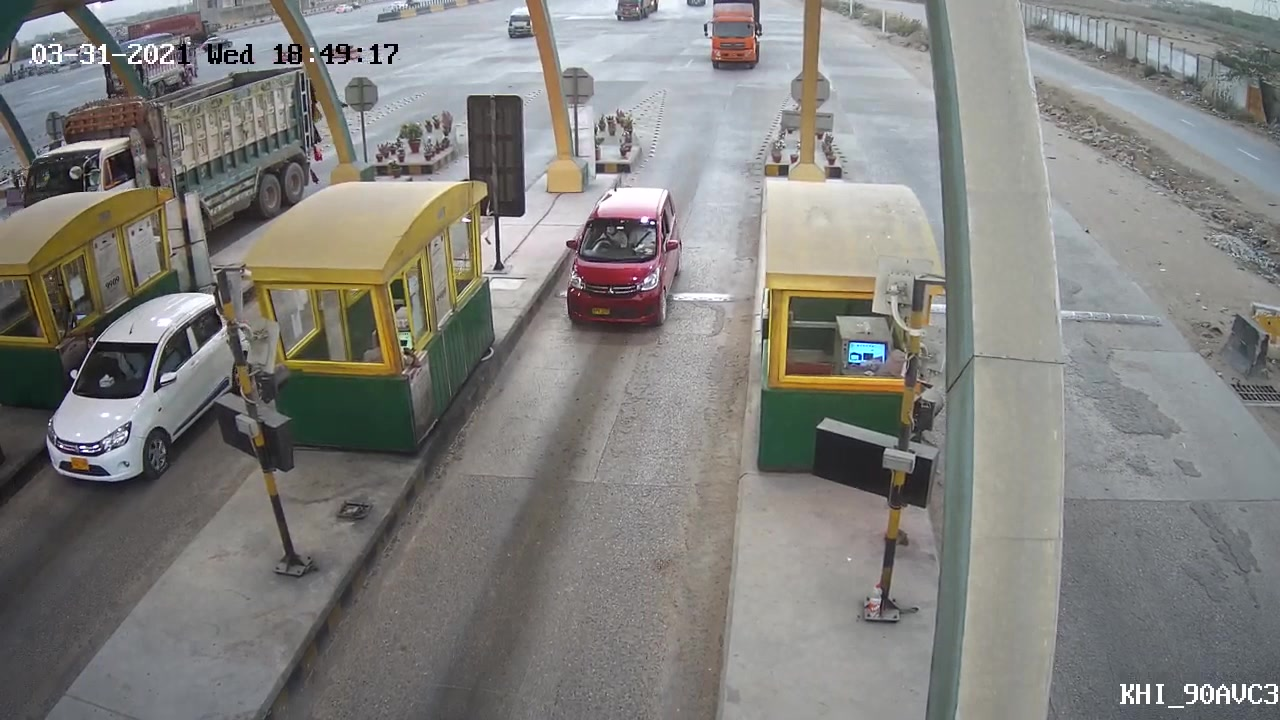F1: (548, 178, 693, 334)
